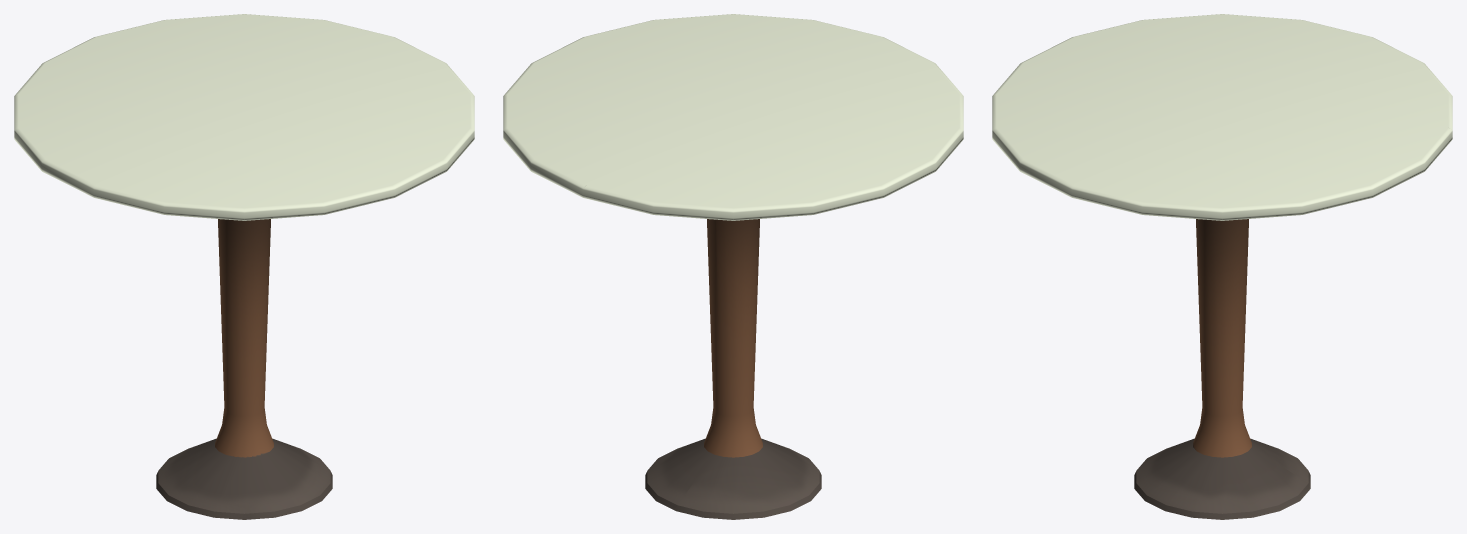
Rendered from CircleTable 1.fbx.
The picture shows the model from 3 angles, left to right: view 1: azimuth 30°, elevation 25°; view 2: azimuth 150°, elevation 25°; view 3: azimuth 270°, elevation 25°; orthographic projection.
Visible parts, largest first — view 1: TableTop, TableLeg; view 2: TableTop, TableLeg; view 3: TableTop, TableLeg.
Boxes of the visible parts, x1,y1,x2,y2 form: TableTop: [14, 14, 474, 220]; TableLeg: [156, 219, 332, 519]; TableTop: [503, 14, 963, 220]; TableLeg: [645, 219, 821, 519]; TableTop: [992, 14, 1452, 220]; TableLeg: [1134, 219, 1310, 519].
Size of the model in its own units: 0.8 by 0.7001 by 0.7878.
Materials: 1 (1 with a texture image).
